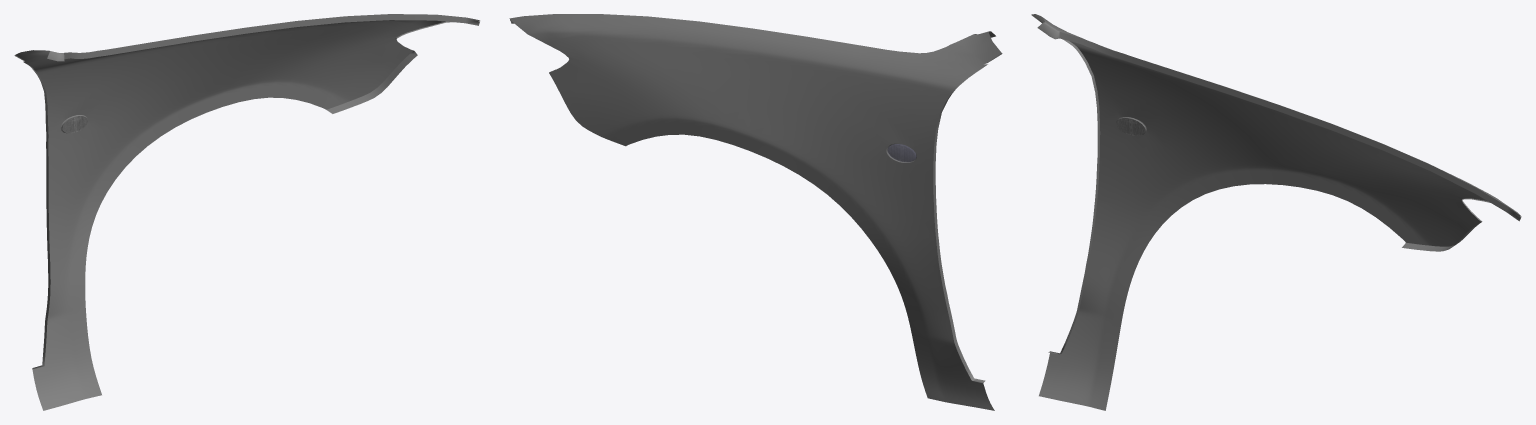
3 renders of one model, left to right at view 1: azimuth 30°, elevation 25°; view 2: azimuth 150°, elevation 25°; view 3: azimuth 330°, elevation 25°, orthographic. The views are drawn at different scales.
Parts seen in each view (by area): view 1: D160_121B_L_D160_121B_L_2_DaS, D160_121B_L_D160_121B_L_2_DaS_E; view 2: D160_121B_L_D160_121B_L_2_DaS, D160_121B_L_D160_121B_L_2_DaS_E; view 3: D160_121B_L_D160_121B_L_2_DaS, D160_121B_L_D160_121B_L_2_DaS_E.
Boxes of the visible parts, x1=… form: D160_121B_L_D160_121B_L_2_DaS: x1=15, y1=17, x2=479, y2=410; D160_121B_L_D160_121B_L_2_DaS_E: x1=14, y1=14, x2=479, y2=368; D160_121B_L_D160_121B_L_2_DaS: x1=509, y1=14, x2=1001, y2=410; D160_121B_L_D160_121B_L_2_DaS_E: x1=510, y1=19, x2=1002, y2=383; D160_121B_L_D160_121B_L_2_DaS: x1=1032, y1=14, x2=1521, y2=410; D160_121B_L_D160_121B_L_2_DaS_E: x1=1031, y1=14, x2=1521, y2=354.
Size of the model in its own units: 127 by 93.66 by 17.84.
